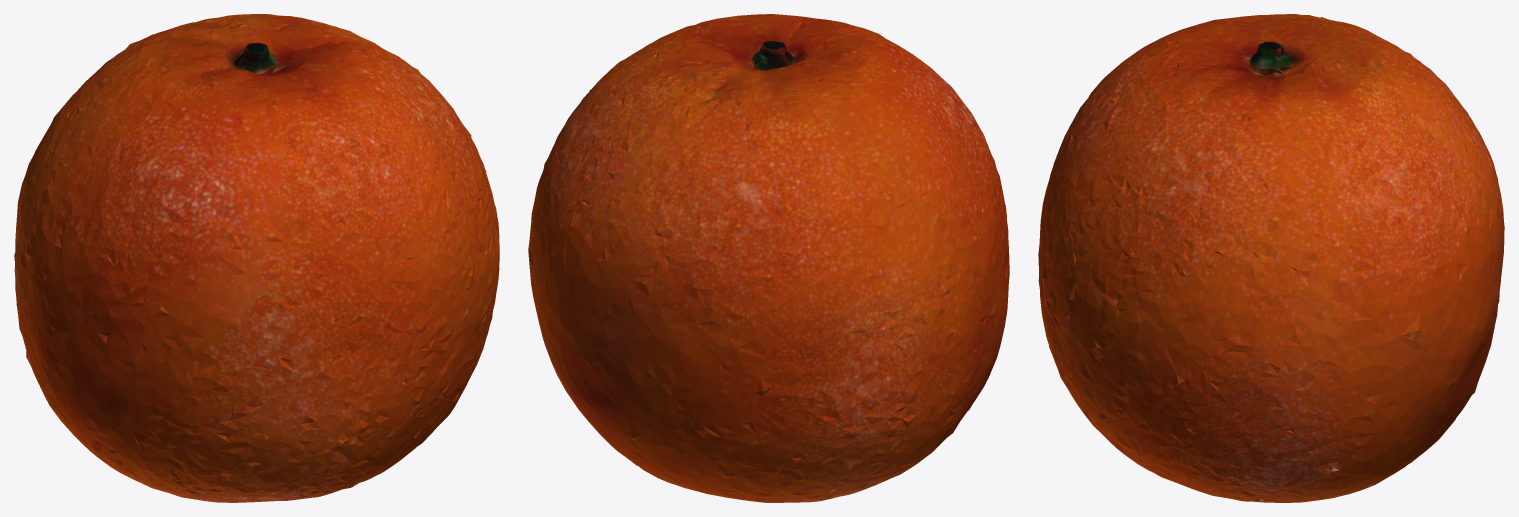
The model's file is Scan.obj.
3 renders of one model, left to right at view 1: azimuth 30°, elevation 25°; view 2: azimuth 150°, elevation 25°; view 3: azimuth 270°, elevation 25°, orthographic.
Parts seen in each view (by area): view 1: Scan; view 2: Scan; view 3: Scan.
Boxes of the visible parts, bbox=[...] form: Scan: bbox=[14, 14, 499, 502]; Scan: bbox=[528, 14, 1009, 502]; Scan: bbox=[1038, 14, 1504, 502].
Bounding box in the file's own units: 0.0788 × 0.0756 × 0.0759.
Materials: 1 (1 with a texture image).
